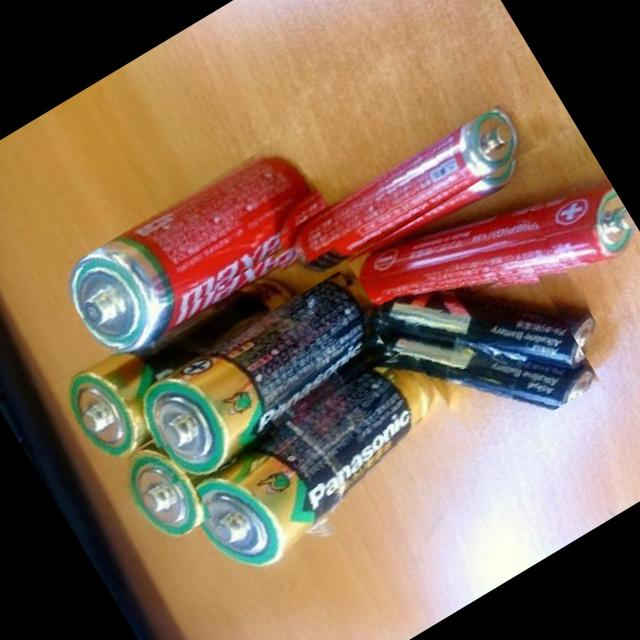Hazard: (347, 123, 640, 378), (177, 342, 477, 588), (54, 133, 348, 375), (126, 269, 397, 492), (54, 251, 328, 468), (363, 213, 607, 440), (274, 98, 544, 300), (374, 254, 600, 472), (111, 437, 212, 548)
